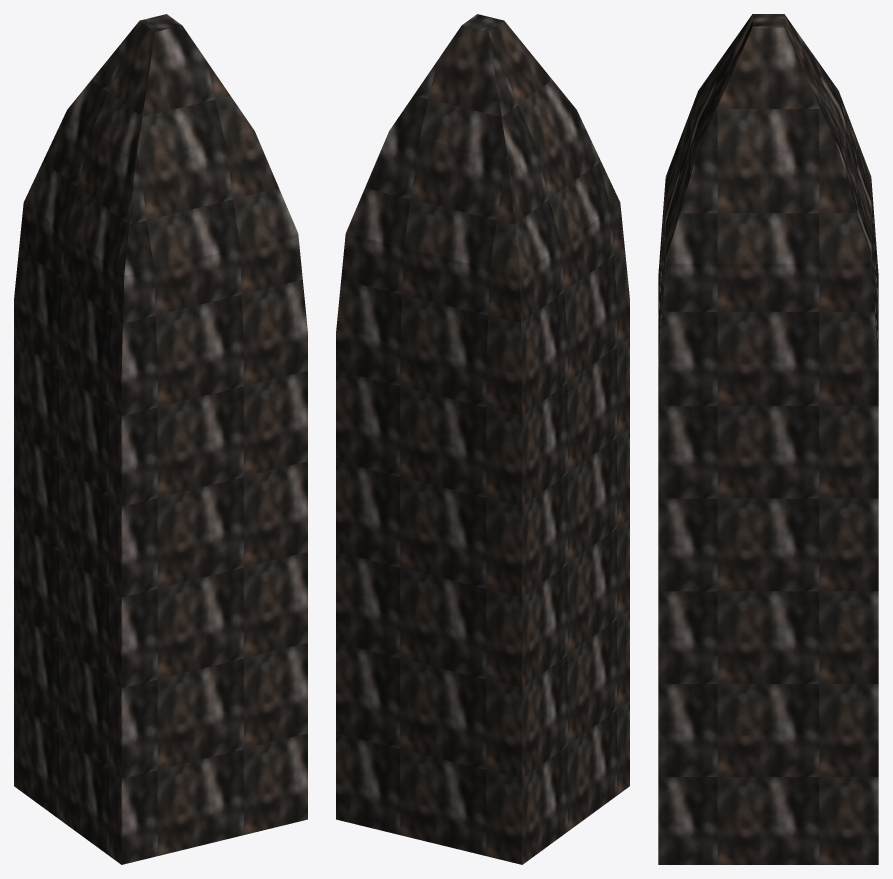
File: tree1.obj
3 views of the same model, side by side, from view 1: azimuth 30°, elevation 25°; view 2: azimuth 150°, elevation 25°; view 3: azimuth 270°, elevation 25° (orthographic). The views are drawn at different scales.
Visible parts, largest first — view 1: Cube; view 2: Cube; view 3: Cube.
Boxes of the visible parts, x1,y1,x2,y2 form: Cube: (14,14,307,864); Cube: (336,14,629,864); Cube: (658,14,878,864).
Size of the model in its own units: 2 by 8 by 2.
Materials: 1 (1 with a texture image).
